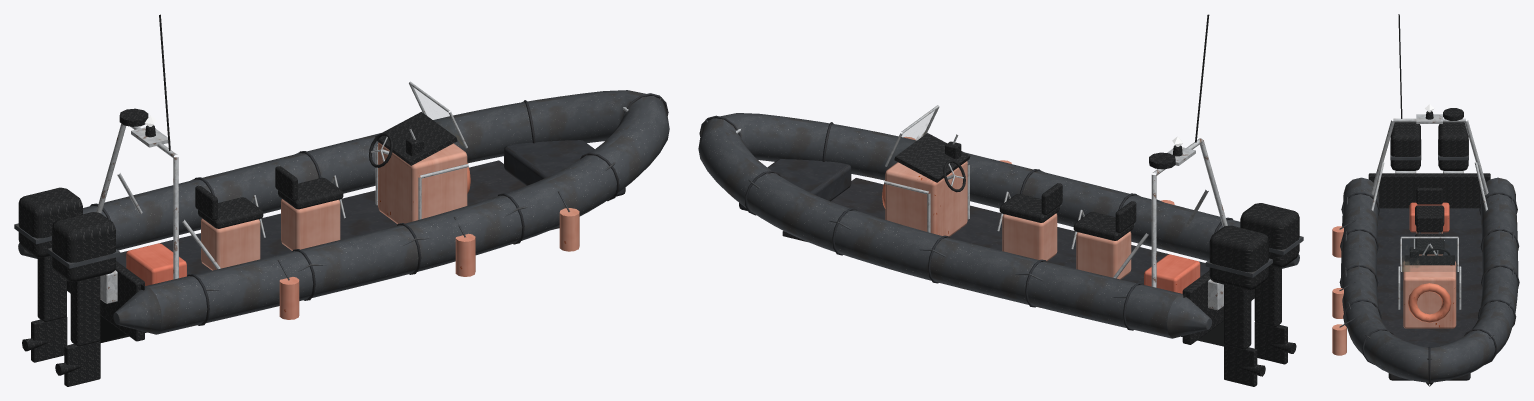
The model's file is boat.glb.
The picture shows the model from 3 angles, left to right: view 1: azimuth 30°, elevation 25°; view 2: azimuth 150°, elevation 25°; view 3: azimuth 270°, elevation 25°; orthographic projection. The views are drawn at different scales.
Parts seen in each view (by area): view 1: boat-hull; view 2: boat-hull; view 3: boat-hull.
Part boxes in pixels (x1,y1,x2,y2): boat-hull: [14, 14, 669, 386]; boat-hull: [698, 14, 1303, 386]; boat-hull: [1332, 14, 1519, 386].
Bounding box in the file's own units: 7.83 × 4.22 × 2.83.
6 materials, 5 textured.
